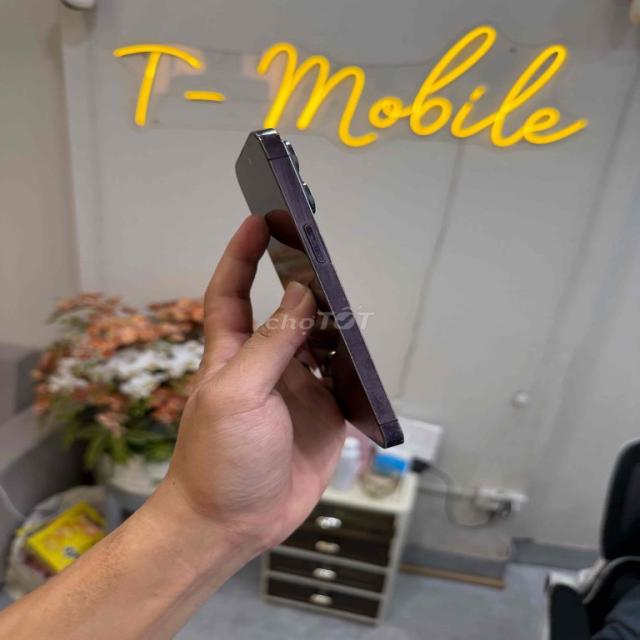gen_14: (227, 127, 428, 459)
